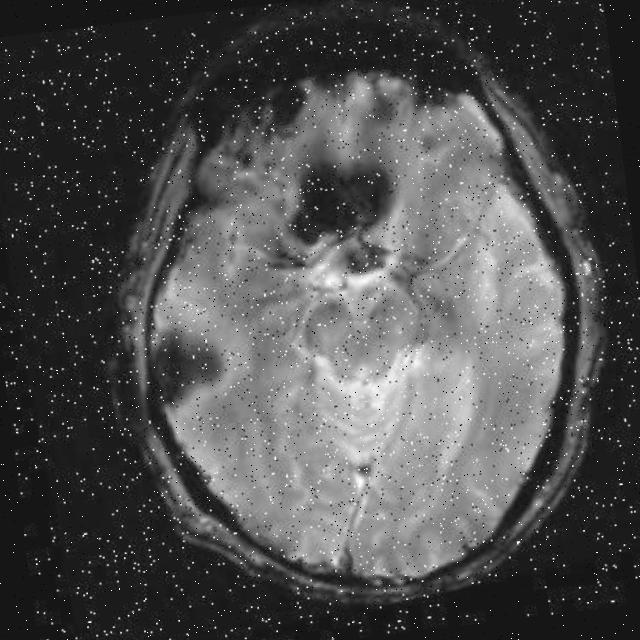LMCI: (275, 132, 423, 258)
MCI: (114, 296, 226, 479)
